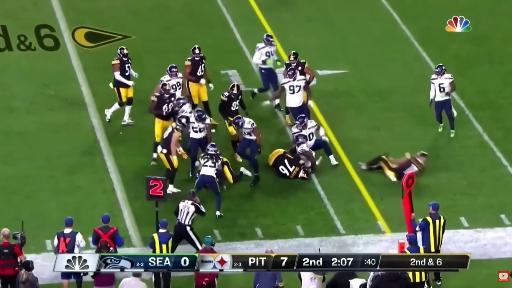Helmet: (175, 115, 189, 130), (295, 114, 308, 130), (166, 64, 179, 79), (194, 109, 207, 123), (434, 64, 446, 77), (117, 46, 129, 59), (229, 83, 242, 95), (294, 134, 307, 146), (174, 98, 188, 109), (160, 83, 171, 96), (206, 143, 219, 154), (233, 116, 244, 129), (263, 34, 274, 46), (287, 67, 297, 79), (191, 46, 201, 58), (289, 51, 298, 64), (299, 168, 308, 179), (417, 151, 427, 157)
Jersey: (269, 150, 303, 178), (282, 76, 306, 107), (291, 120, 318, 147), (151, 93, 175, 121), (159, 125, 181, 153), (431, 74, 453, 101), (253, 43, 277, 67), (219, 92, 241, 118), (199, 154, 222, 178), (160, 73, 183, 97), (185, 55, 205, 82), (190, 114, 210, 138), (112, 57, 131, 80), (285, 61, 307, 77), (300, 272, 322, 287), (242, 118, 256, 139), (404, 161, 419, 174)
Player: (105, 47, 138, 124), (158, 115, 189, 193), (291, 115, 338, 165), (219, 83, 248, 161), (149, 82, 175, 165), (195, 142, 223, 219), (184, 46, 213, 117), (273, 67, 311, 121), (359, 152, 427, 181), (233, 116, 261, 185), (430, 64, 456, 137), (251, 34, 280, 99), (188, 109, 211, 176), (290, 134, 321, 172), (269, 149, 308, 179), (218, 157, 251, 190), (283, 51, 315, 85), (154, 65, 184, 97), (173, 98, 193, 120)
